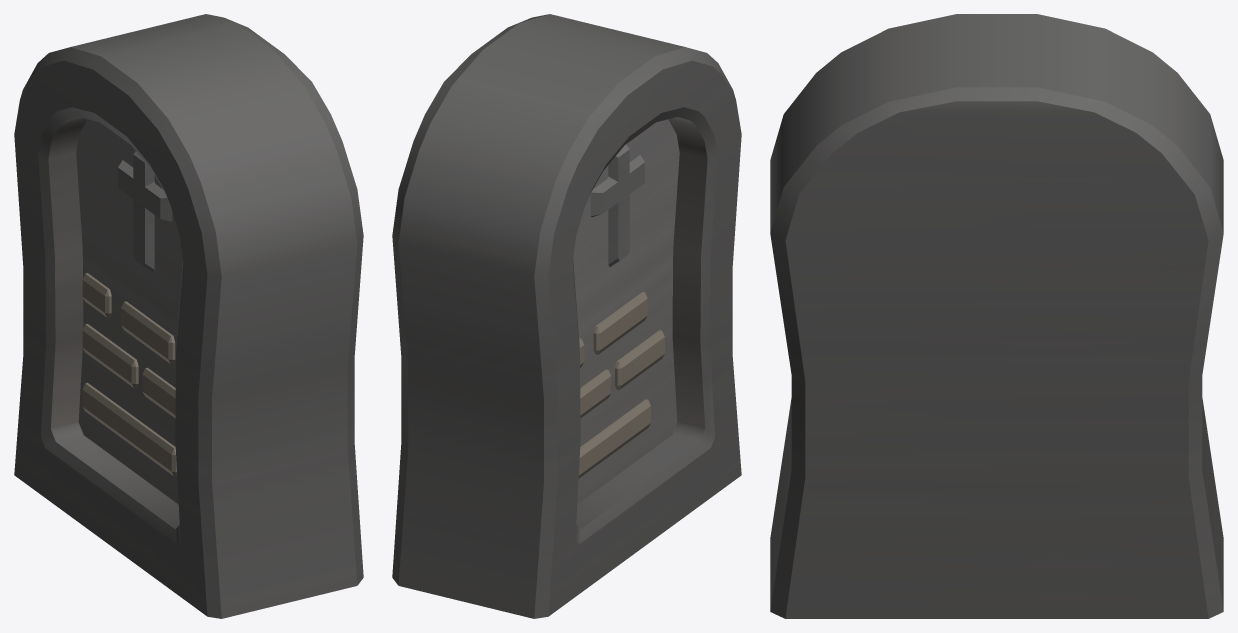
Rendered from Tombstone_3.obj.
3 views of the same model, side by side, from view 1: azimuth 30°, elevation 25°; view 2: azimuth 150°, elevation 25°; view 3: azimuth 270°, elevation 25° (orthographic). The views are drawn at different scales.
Parts seen in each view (by area): view 1: Tombstone_3; view 2: Tombstone_3; view 3: Tombstone_3.
Boxes of the visible parts, <box> form: Tombstone_3: <box>14,14,363,618</box>; Tombstone_3: <box>392,14,741,618</box>; Tombstone_3: <box>770,14,1223,618</box>.
Size of the model in its own units: 0.3056 by 0.8799 by 0.6893.
